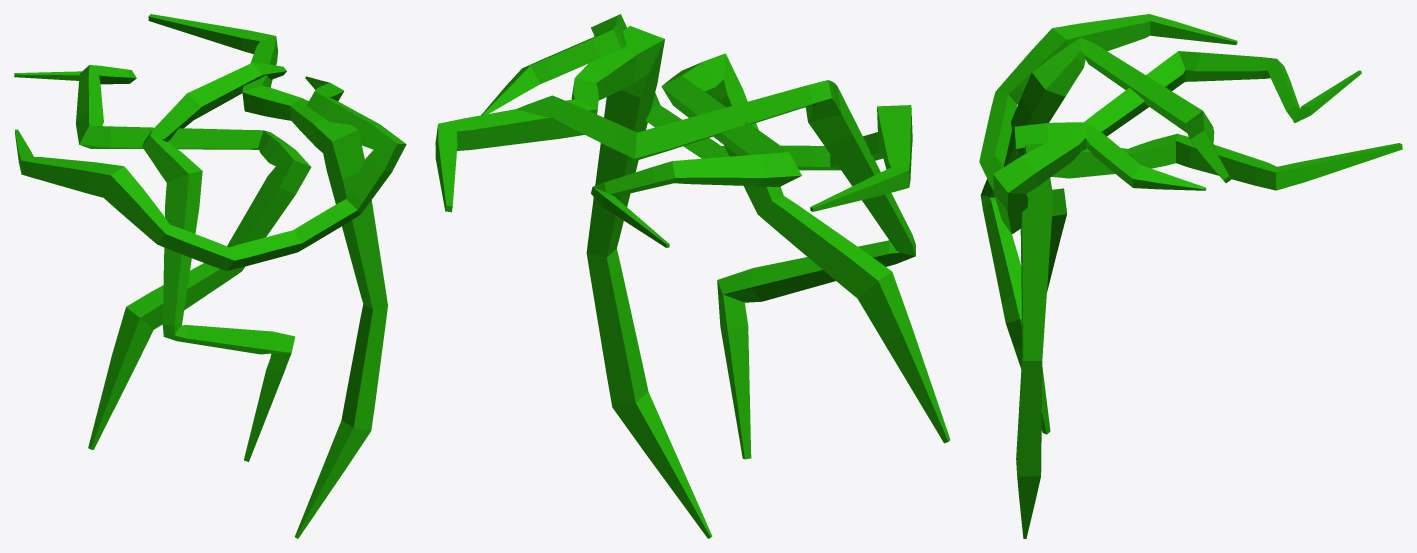
Rendered from VinesDesigns.fbx.
3 renders of one model, left to right at view 1: azimuth 30°, elevation 25°; view 2: azimuth 150°, elevation 25°; view 3: azimuth 270°, elevation 25°, orthographic. The views are drawn at different scales.
Visible parts, largest first — view 1: Cube.001, Cube.003, Cube.004, Cube.002; view 2: Cube.001, Cube.003, Cube.002, Cube.004; view 3: Cube.001, Cube.004, Cube.002, Cube.003.
Boxes of the visible parts, <box> form: Cube.001: <box>148,14,387,538</box>; Cube.003: <box>14,65,311,449</box>; Cube.004: <box>15,76,406,270</box>; Cube.002: <box>142,62,295,461</box>; Cube.001: <box>435,26,712,538</box>; Cube.003: <box>591,53,950,443</box>; Cube.002: <box>516,80,915,459</box>; Cube.004: <box>481,14,912,211</box>; Cube.001: <box>1016,133,1402,538</box>; Cube.004: <box>979,14,1237,234</box>; Cube.002: <box>980,37,1231,434</box>; Cube.003: <box>1014,51,1361,291</box>.
Bounding box in the file's own units: 170 × 211 × 184.
